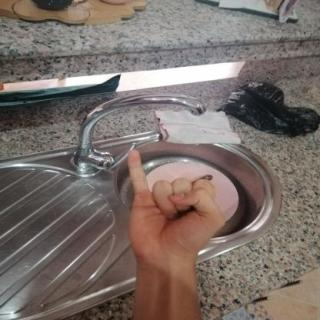MEEM: (110, 141, 232, 272)
